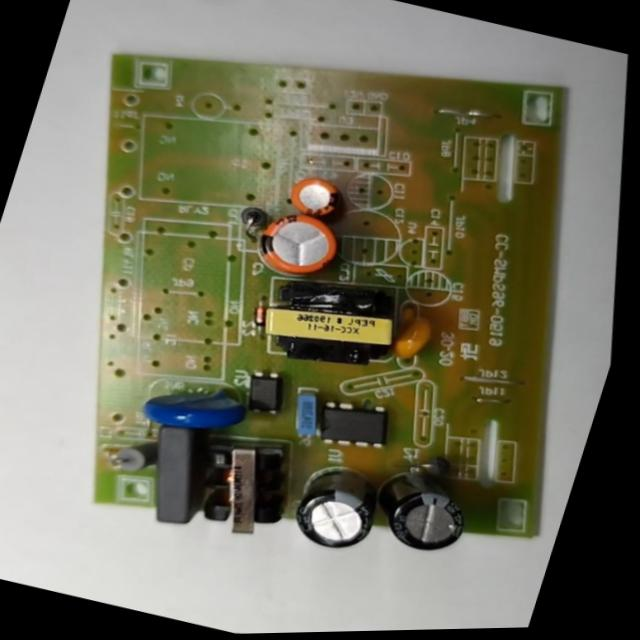Cap1: (233, 193, 362, 297)
Cap2: (272, 161, 362, 235)
Cap3: (265, 444, 407, 571)
Cap4: (352, 445, 494, 574)
MOSFET: (300, 384, 410, 467)
Mov: (123, 355, 272, 458)
Resistor: (99, 426, 173, 488)
Transformer: (233, 250, 428, 397), (169, 417, 321, 558)
